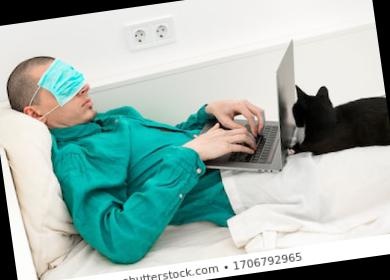mask_weared_incorrect: (29, 52, 97, 128)
